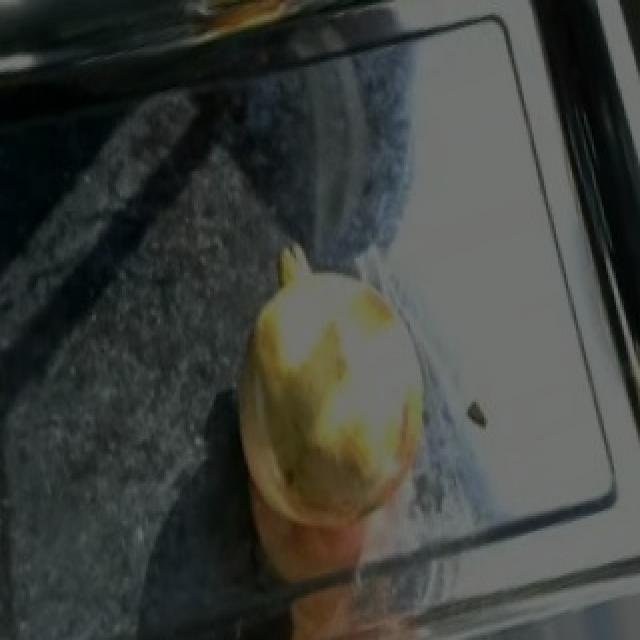fruit: (202, 231, 464, 494)
